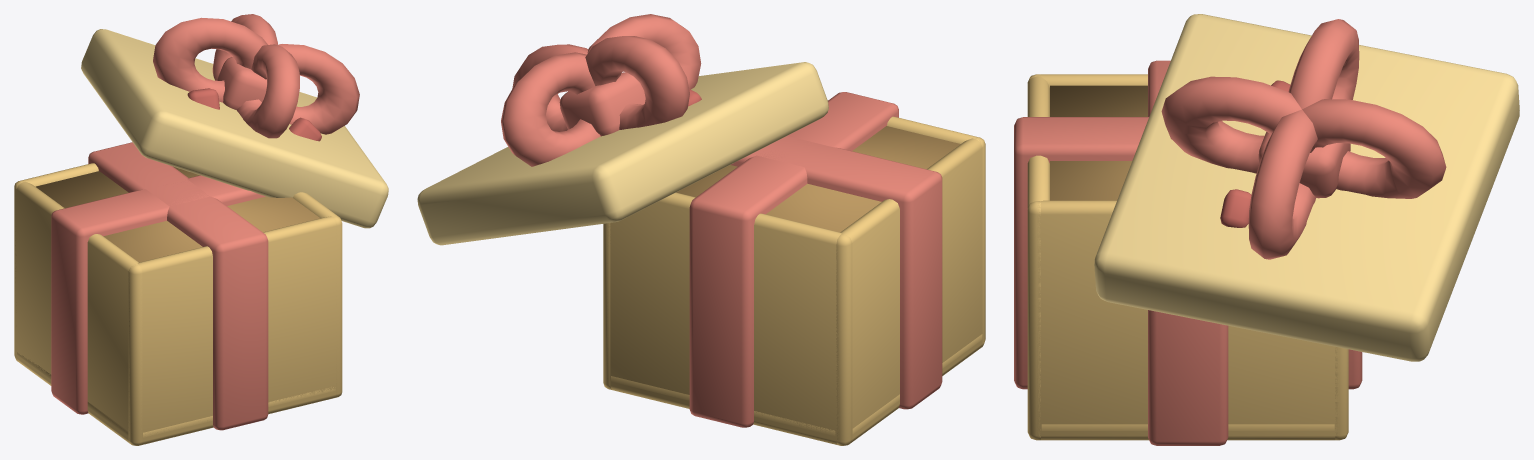
The model's file is reward-gift-opened.glb.
The picture shows the model from 3 angles, left to right: view 1: azimuth 30°, elevation 25°; view 2: azimuth 150°, elevation 25°; view 3: azimuth 270°, elevation 25°; orthographic projection. The views are drawn at different scales.
Parts seen in each view (by area): view 1: reward gift opened, reward gift lid; view 2: reward gift opened, reward gift lid; view 3: reward gift lid, reward gift opened.
Boxes of the visible parts, bbox=[...] form: reward gift opened: bbox=[14, 142, 342, 445]; reward gift lid: bbox=[81, 14, 388, 228]; reward gift opened: bbox=[603, 92, 985, 445]; reward gift lid: bbox=[417, 14, 828, 245]; reward gift lid: bbox=[1094, 14, 1519, 361]; reward gift opened: bbox=[1014, 60, 1362, 445].
Bounding box in the file's own units: 1.79 × 1.48 × 1.7.
